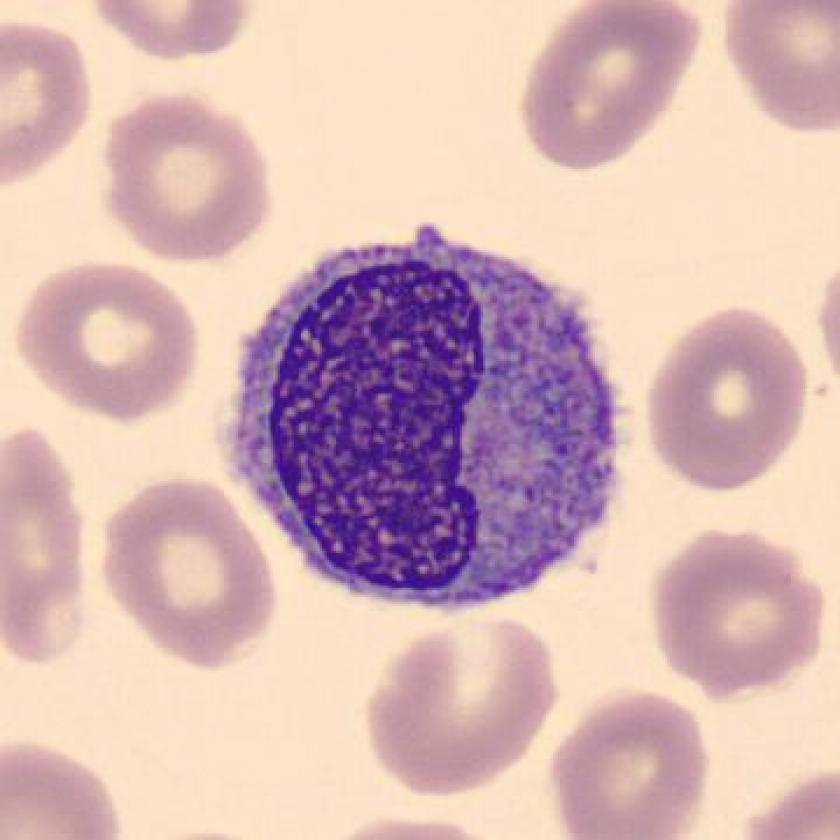monocyte: (214, 207, 648, 635)
